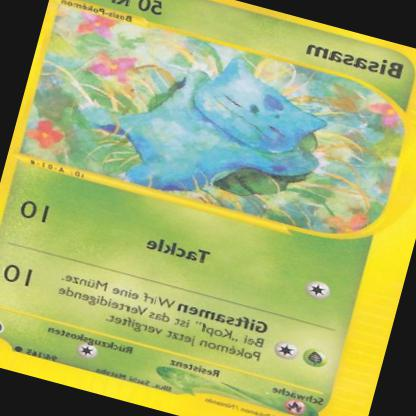Bulbasaur: (66, 18, 344, 230)
